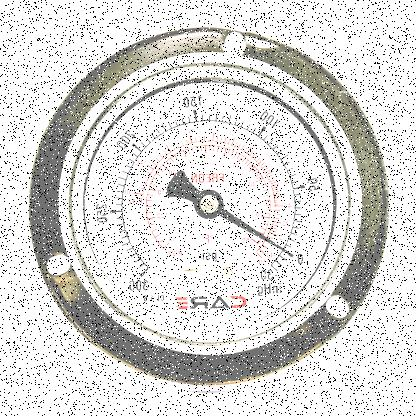needle: (219, 208, 293, 257)
